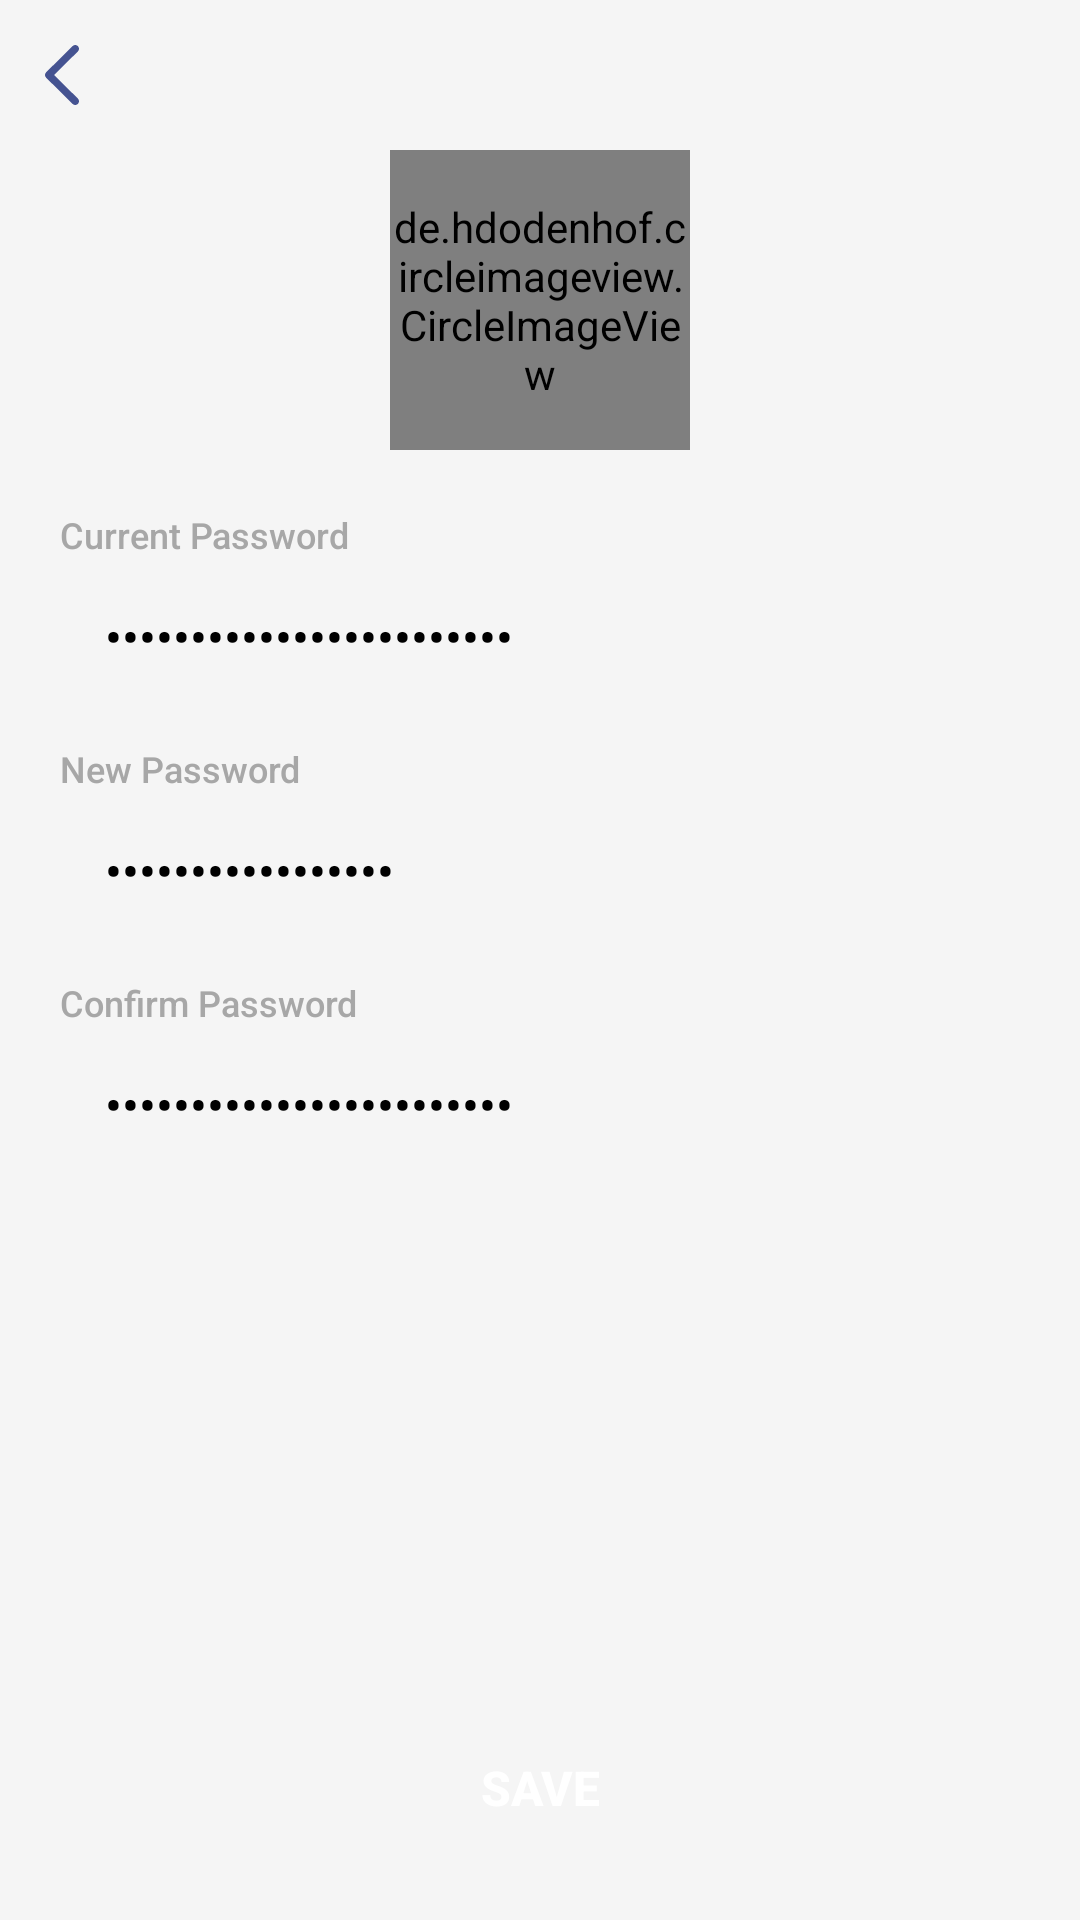

Point at icon controls on the screen. Image size 1080px×1920px, points as [x,y].
Back: [62,75]
